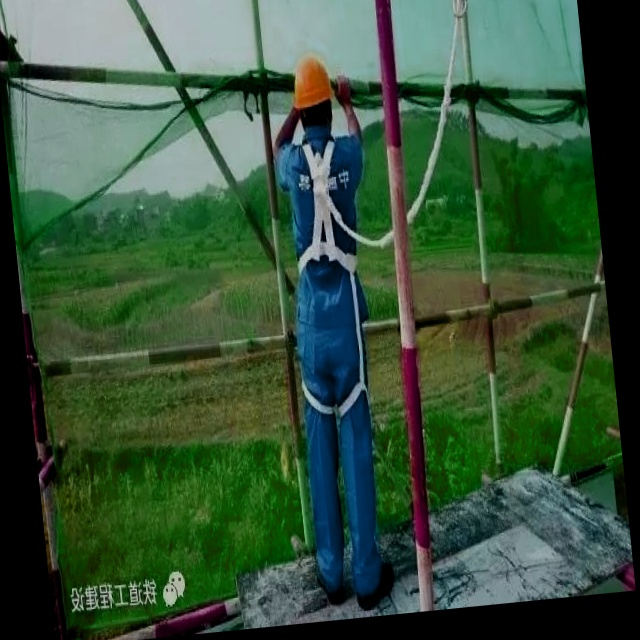Con_Casco: (290, 54, 336, 136)
